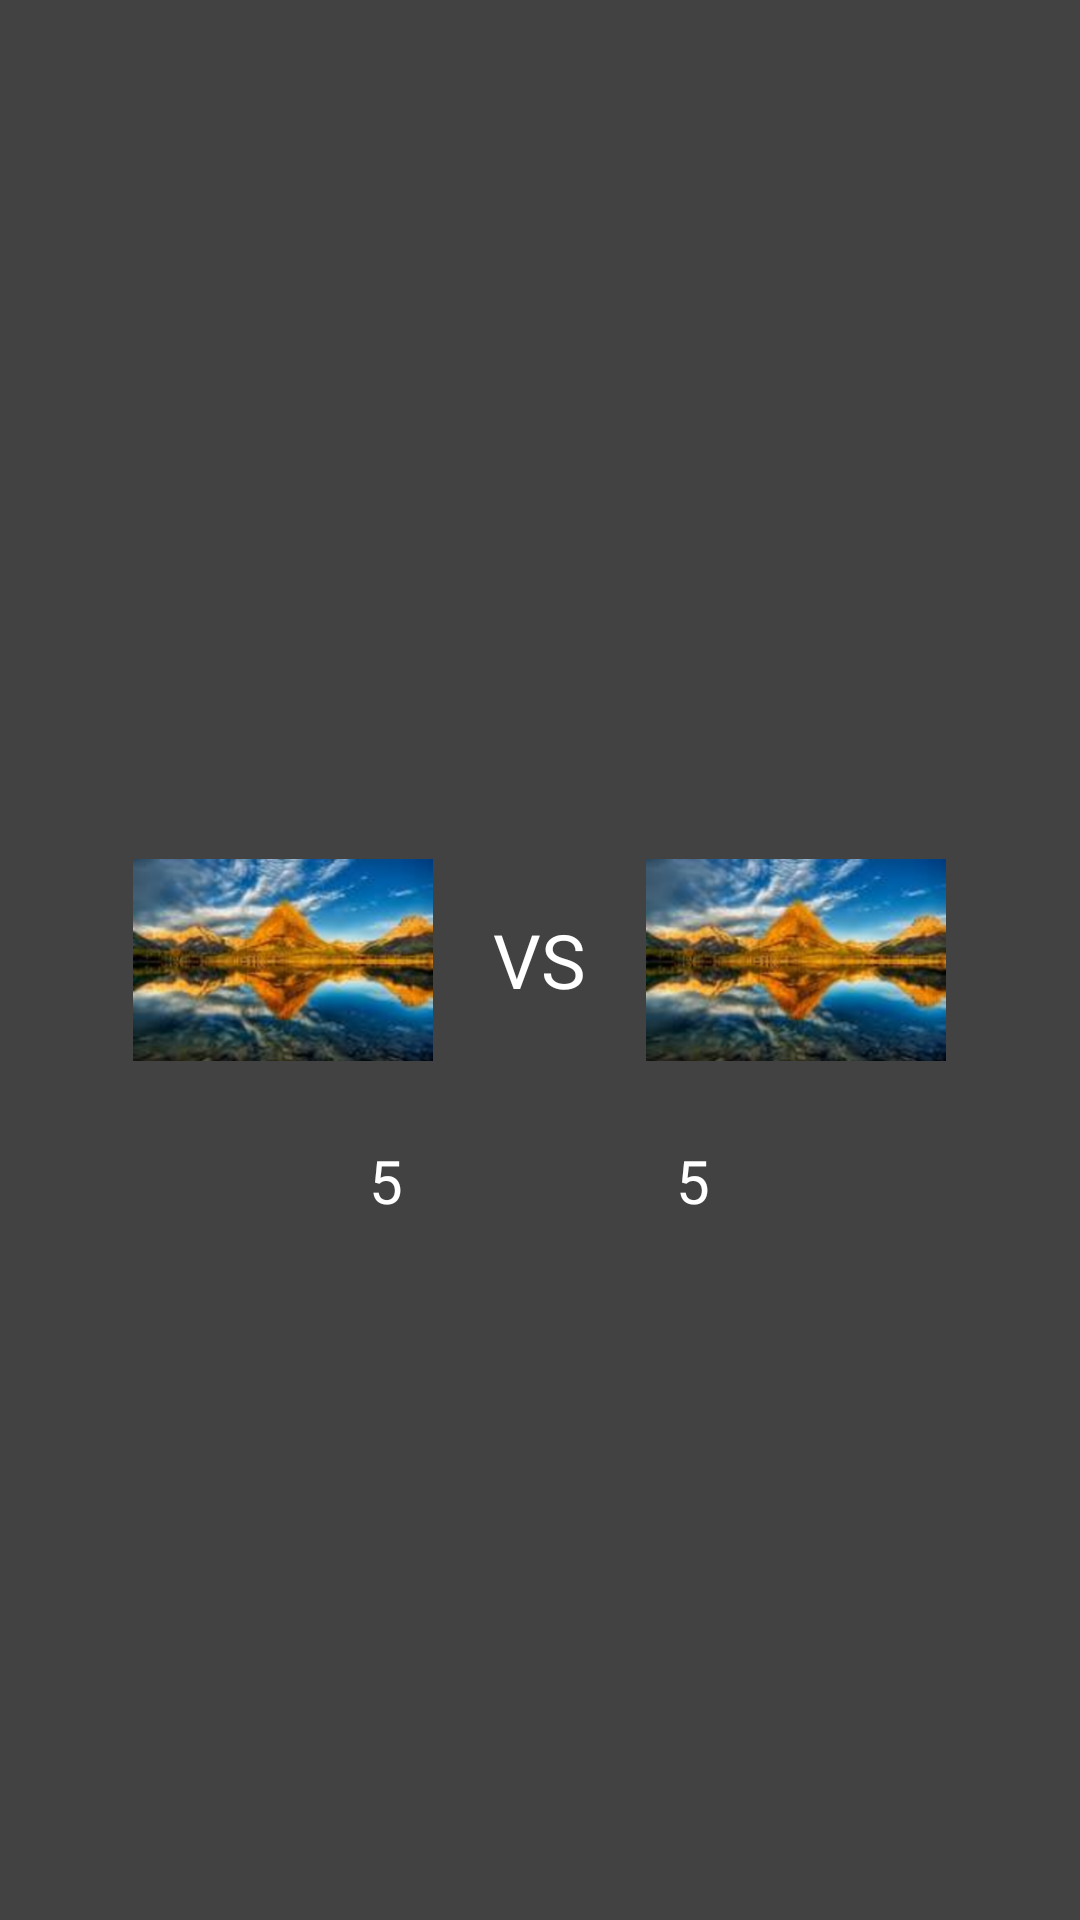

Icon bounding boxes for this 1080w x 1920h phone screenshot, format {"x1": x1, "y1": y1, "x2": x2, "y2": y2}:
scene: {"x1": 133, "y1": 859, "x2": 433, "y2": 1061}, {"x1": 646, "y1": 859, "x2": 946, "y2": 1061}
